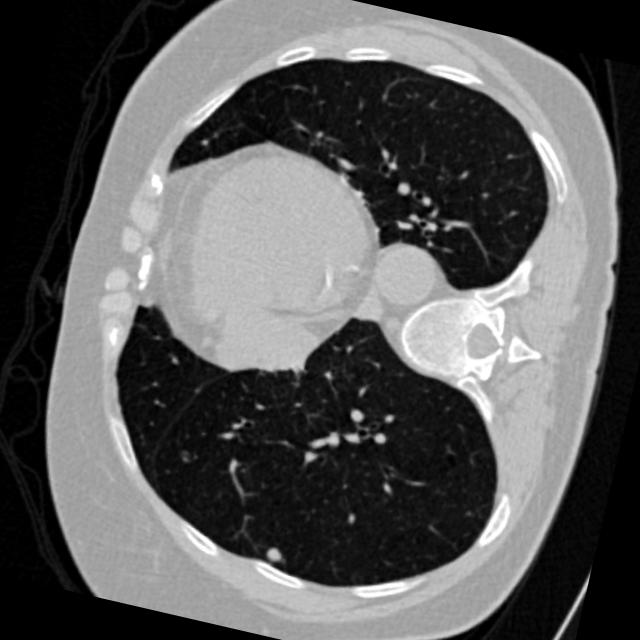nodule: (250, 534, 292, 576)
